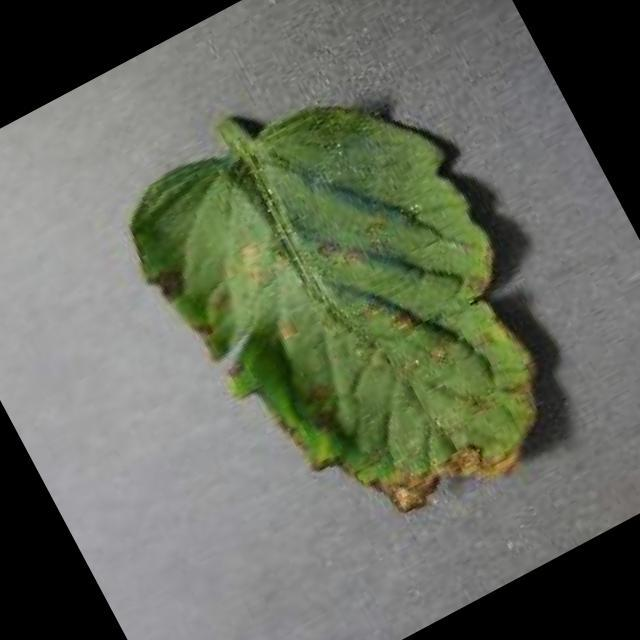Tomato bacterial spot leaf: (72, 10, 628, 607)
